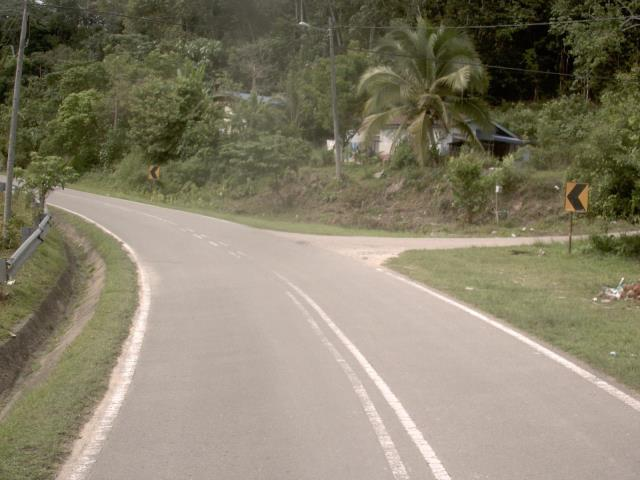traffic_sign: (558, 173, 595, 220)
